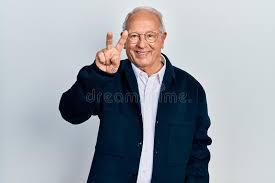peace_sign: (95, 28, 130, 79)
